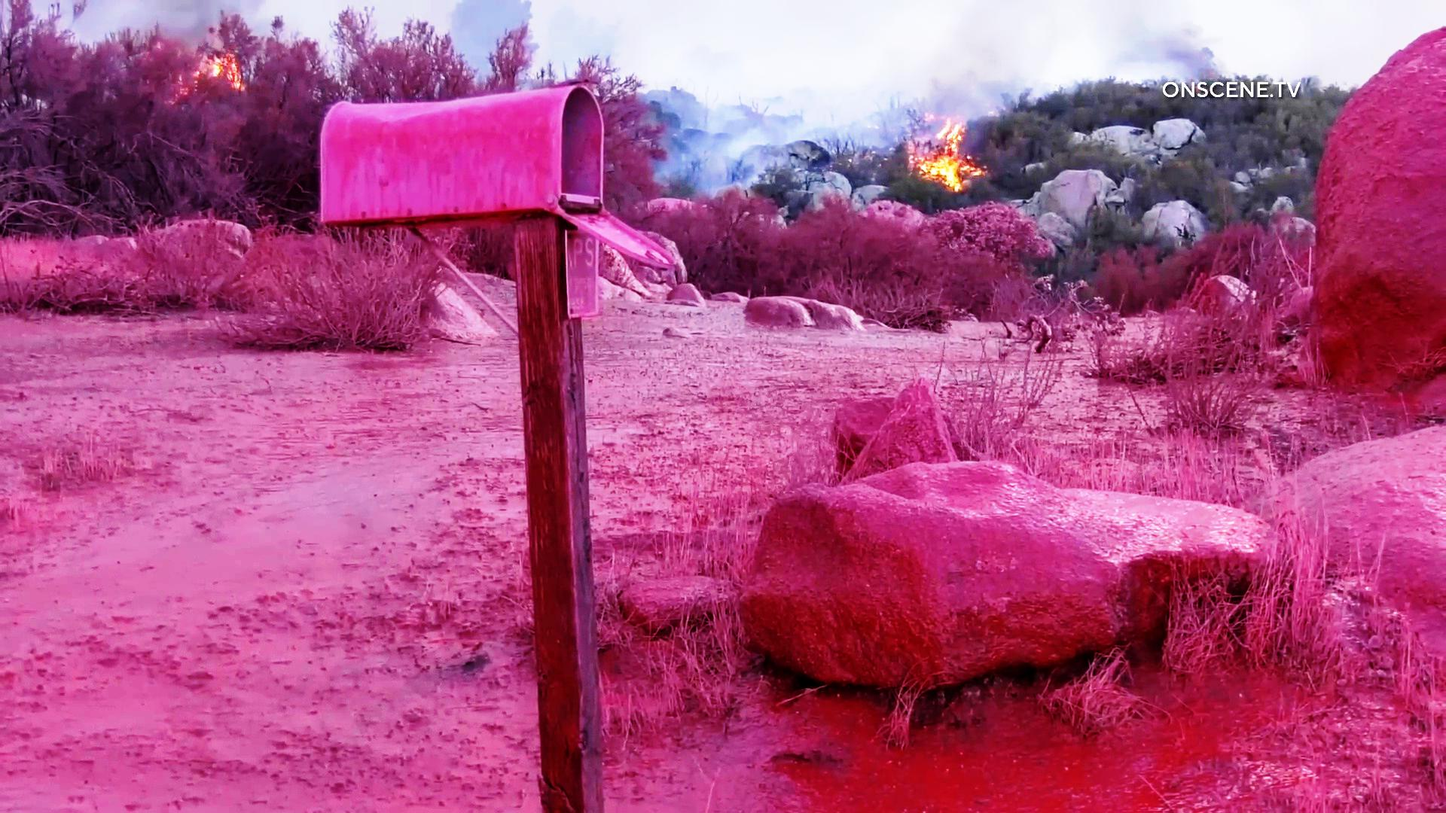fire: (921, 134, 972, 187)
smoke: (921, 12, 1060, 112)
